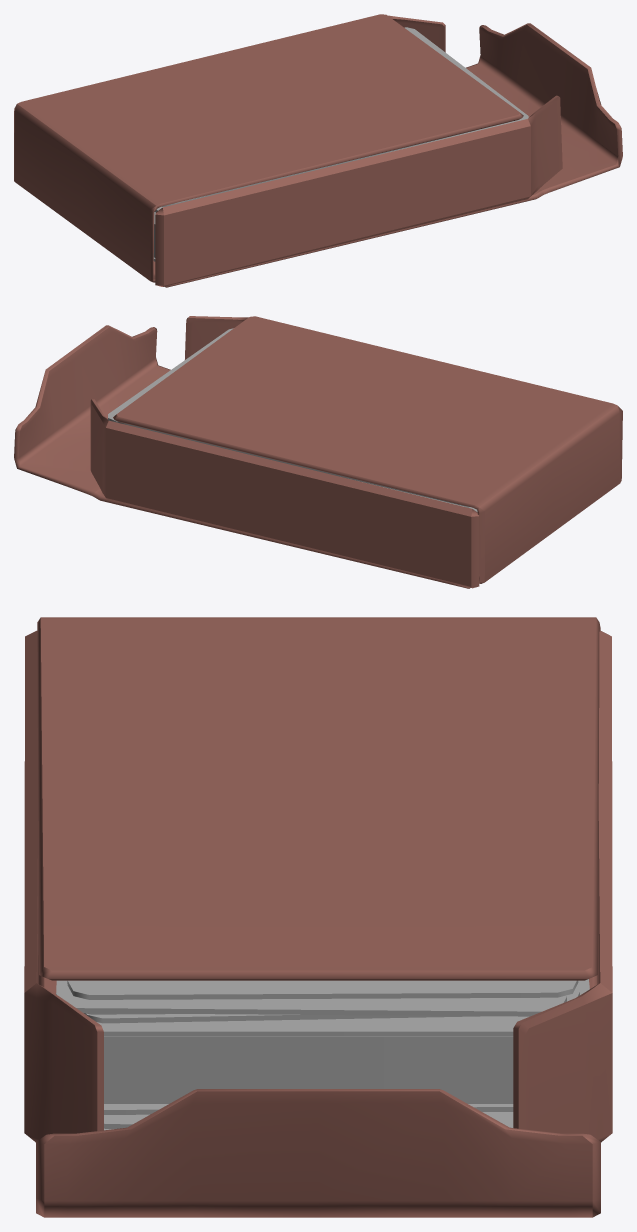
The model's file is CardDeck.fbx.
3 views of the same model, one above another, from view 1: azimuth 30°, elevation 25°; view 2: azimuth 150°, elevation 25°; view 3: azimuth 270°, elevation 25° (orthographic). The views are drawn at different scales.
Visible parts, largest first — view 1: CardDeck_Box2, CardDeck_Box1, CardDeck_Cards2; view 2: CardDeck_Box2, CardDeck_Box1, CardDeck_Cards2; view 3: CardDeck_Box2, CardDeck_Box1, CardDeck_Cards2, CardDeck_Cards1.
Part boxes in pixels (x1,y1,x2,y2): CardDeck_Box2: (14,14,622,287); CardDeck_Box1: (14,15,562,286); CardDeck_Cards2: (153,27,528,261); CardDeck_Box2: (14,316,622,588); CardDeck_Box1: (90,316,479,588); CardDeck_Cards2: (108,328,477,512); CardDeck_Box2: (36,617,600,1217); CardDeck_Box1: (24,630,612,1142); CardDeck_Cards2: (56,979,589,1130); CardDeck_Cards1: (104,1036,513,1103).
Size of the model in its own units: 0.2477 by 0.0439 by 0.1323.
